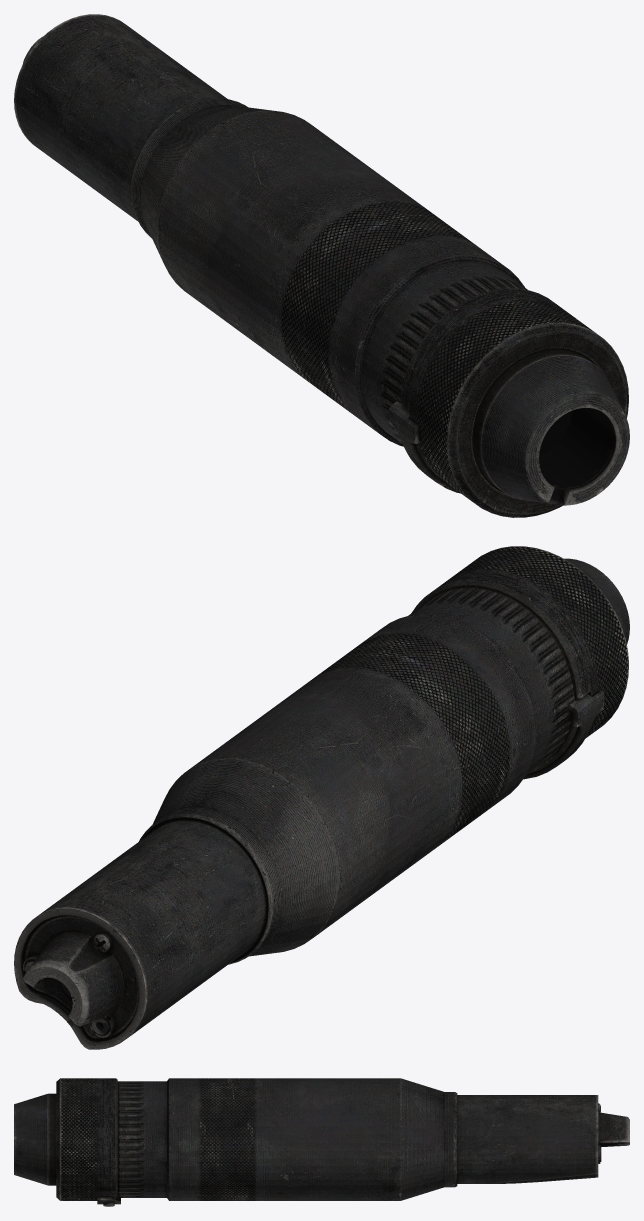
The picture shows the model from 3 angles, top to bottom: view 1: azimuth 30°, elevation 25°; view 2: azimuth 150°, elevation 25°; view 3: azimuth 270°, elevation 25°; orthographic projection. The views are drawn at different scales.
Parts seen in each view (by area): view 1: TW_57ffb0e42459777d047111c5_PZ_Import; view 2: TW_57ffb0e42459777d047111c5_PZ_Import; view 3: TW_57ffb0e42459777d047111c5_PZ_Import.
Boxes of the visible parts, x1=… form: TW_57ffb0e42459777d047111c5_PZ_Import: x1=14, y1=14, x2=629, y2=517; TW_57ffb0e42459777d047111c5_PZ_Import: x1=14, y1=546, x2=629, y2=1049; TW_57ffb0e42459777d047111c5_PZ_Import: x1=14, y1=1078, x2=629, y2=1206.
Bounding box in the file's own units: 0.03 × 0.1473 × 0.0309.
Materials: 1 (1 with a texture image).
